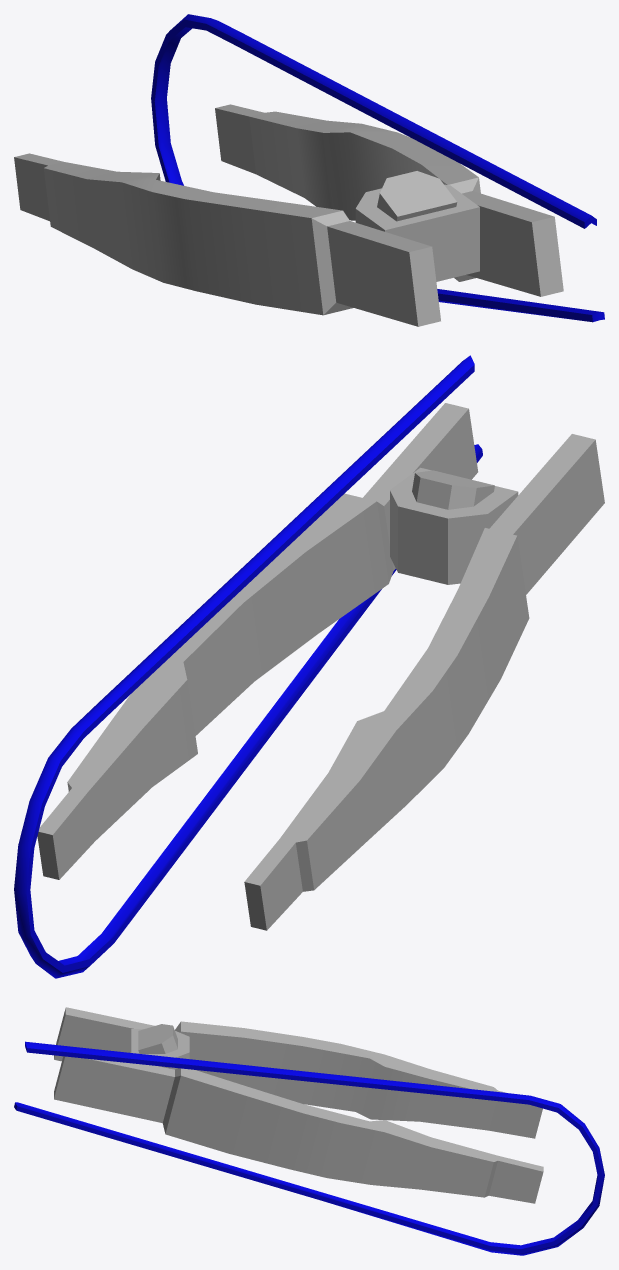
File: bike_motard_pendulumn.fbx
3 views of the same model, one above another, from view 1: azimuth 30°, elevation 25°; view 2: azimuth 150°, elevation 25°; view 3: azimuth 270°, elevation 25° (orthographic). The views are drawn at different scales.
Parts seen in each view (by area): view 1: polySurface223; view 2: polySurface223; view 3: polySurface223.
Part boxes in pixels (x1=…): polySurface223: x1=14, y1=14, x2=604, y2=326; polySurface223: x1=14, y1=355, x2=604, y2=978; polySurface223: x1=14, y1=1007, x2=604, y2=1255.
Bounding box in the file's own units: 21.53 × 27.1 × 67.79.
